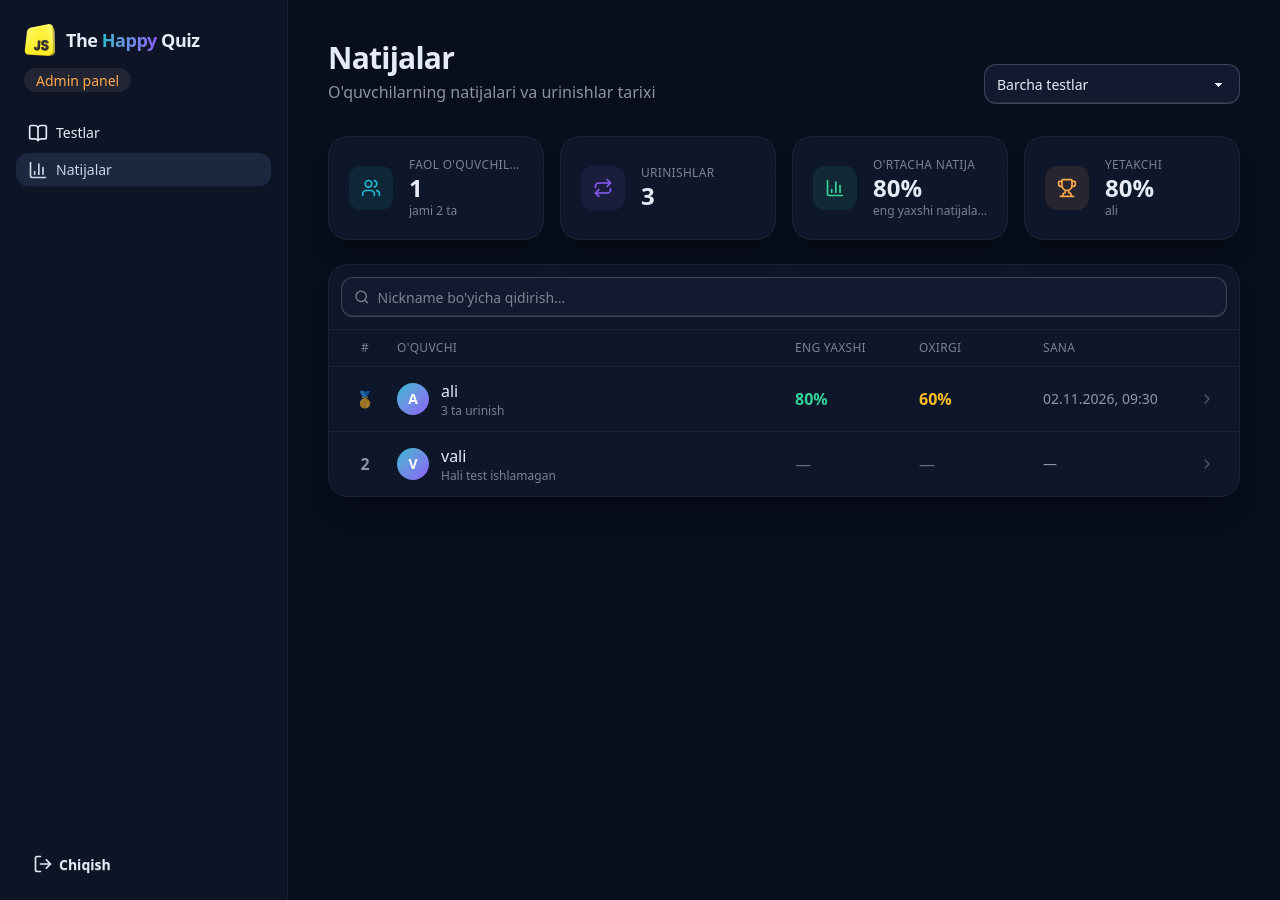
admin › natijalar va o'quvchi tarixi
Expected: the text "Hali test ishlamagan" is shown, [441, 468, 556, 484]
What coordinates should you click on to do the following:
click the button "🥇 A ali 3 ta urinish 80% 60% 02.11.2026, 09:30"
I would click on:
 (413, 399)
Its box is [329, 367, 1239, 431].
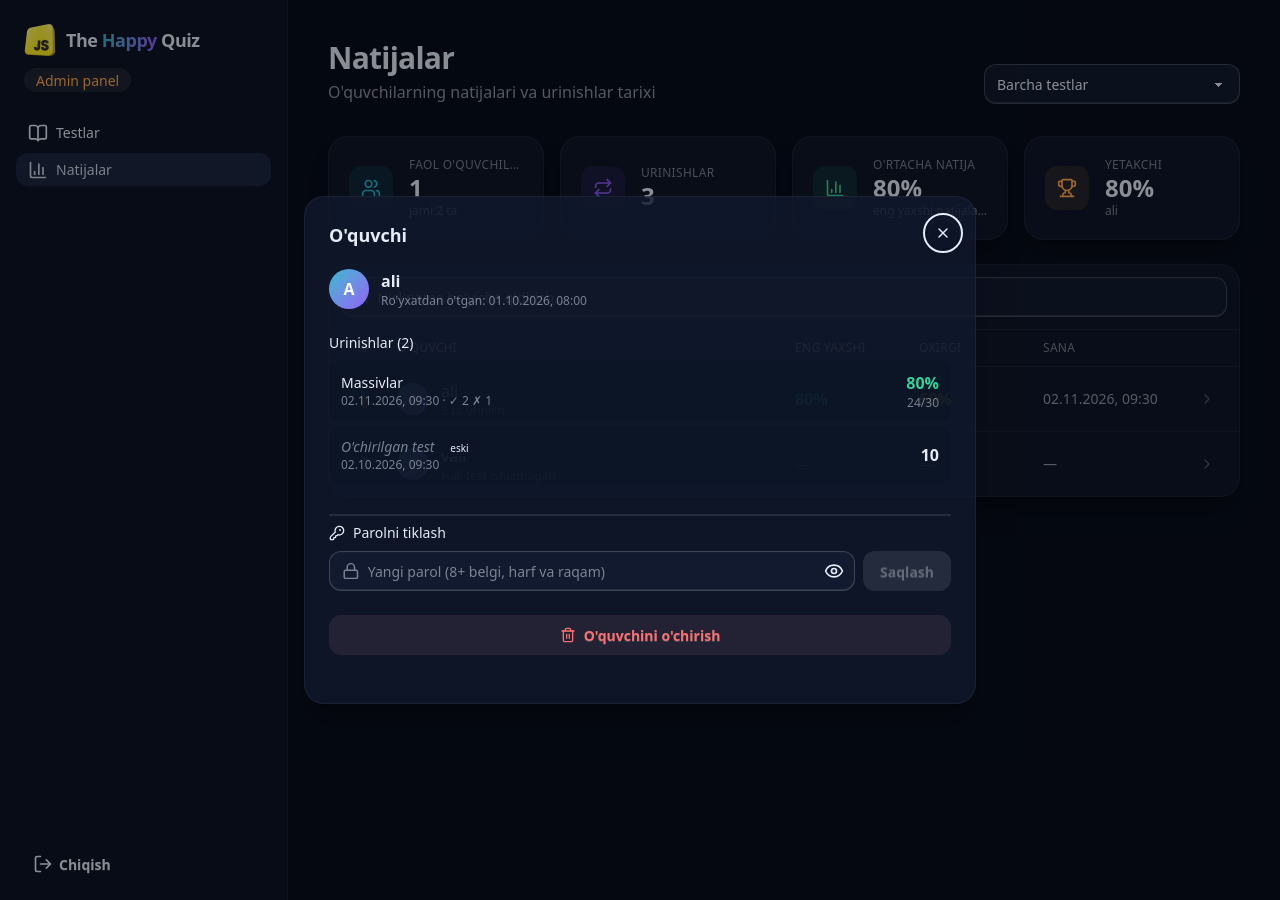
Result: the text "Urinishlar (2)" is shown at [329, 333, 414, 352]
Result: the text "O'chirilgan test" is shown at [341, 437, 434, 456]
Result: the button "Saqlash" is disabled at [863, 551, 951, 591]
